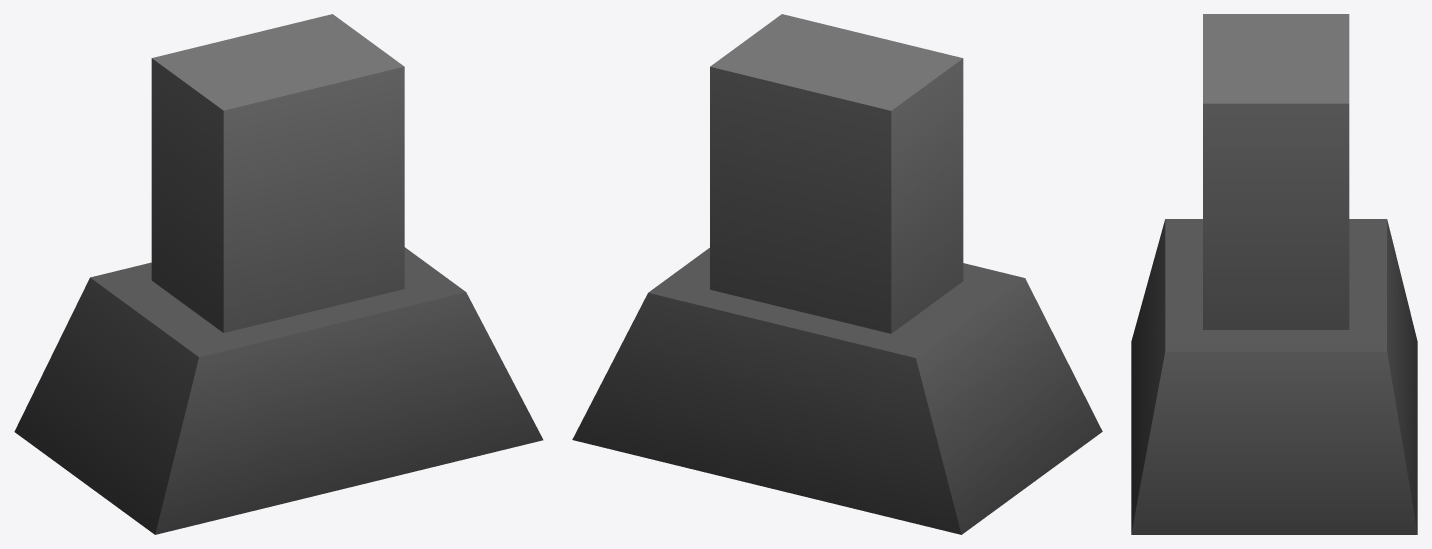
File: StoveHood_default.fbx
The picture shows the model from 3 angles, left to right: view 1: azimuth 30°, elevation 25°; view 2: azimuth 150°, elevation 25°; view 3: azimuth 270°, elevation 25°; orthographic projection.
Visible parts, largest first — view 1: StoveHood.default; view 2: StoveHood.default; view 3: StoveHood.default.
Part boxes in pixels (bbox=[...]): StoveHood.default: bbox=[14, 14, 543, 534]; StoveHood.default: bbox=[572, 14, 1102, 534]; StoveHood.default: bbox=[1131, 14, 1417, 534].
Size of the model in its own units: 99.99 by 91.76 by 62.77.
